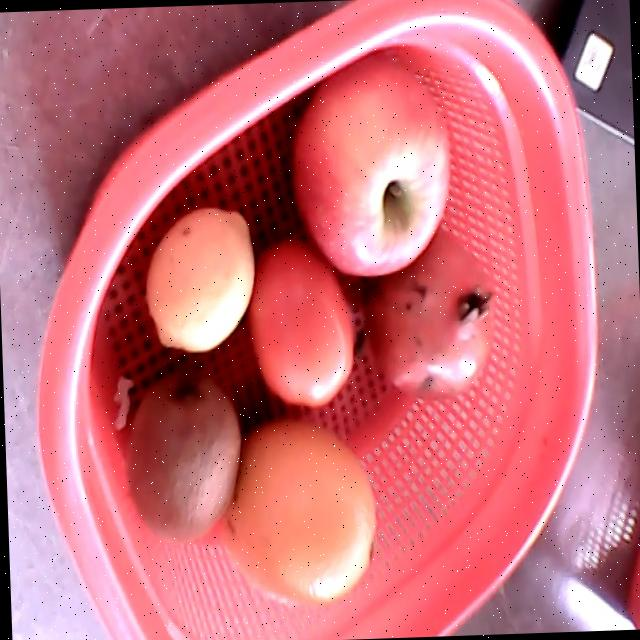apple: (288, 56, 450, 275)
kiwi: (127, 372, 239, 541)
lemon: (144, 204, 254, 351)
orange: (219, 418, 376, 603)
pomegranate: (364, 228, 496, 403)
tomato: (247, 236, 354, 406)
